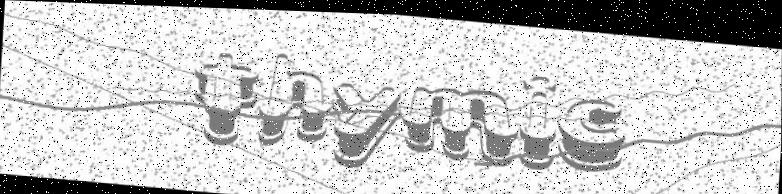c: (556, 93, 627, 169)
h: (258, 50, 333, 148)
i: (518, 72, 557, 166)
m: (401, 81, 520, 162)
t: (191, 49, 257, 145)
y: (328, 79, 402, 168)
